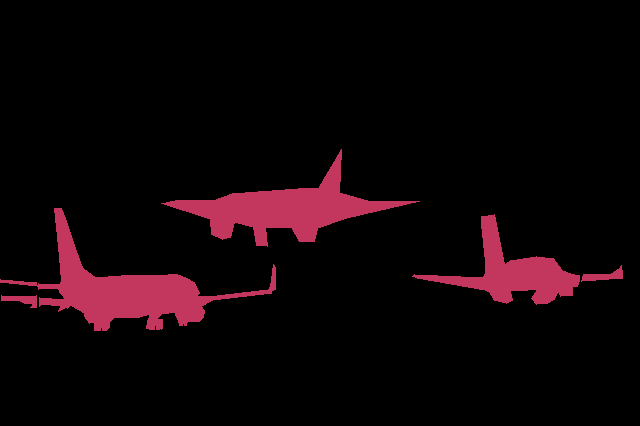Airplane: (0, 208, 275, 331), (161, 149, 419, 247), (412, 214, 623, 304)
